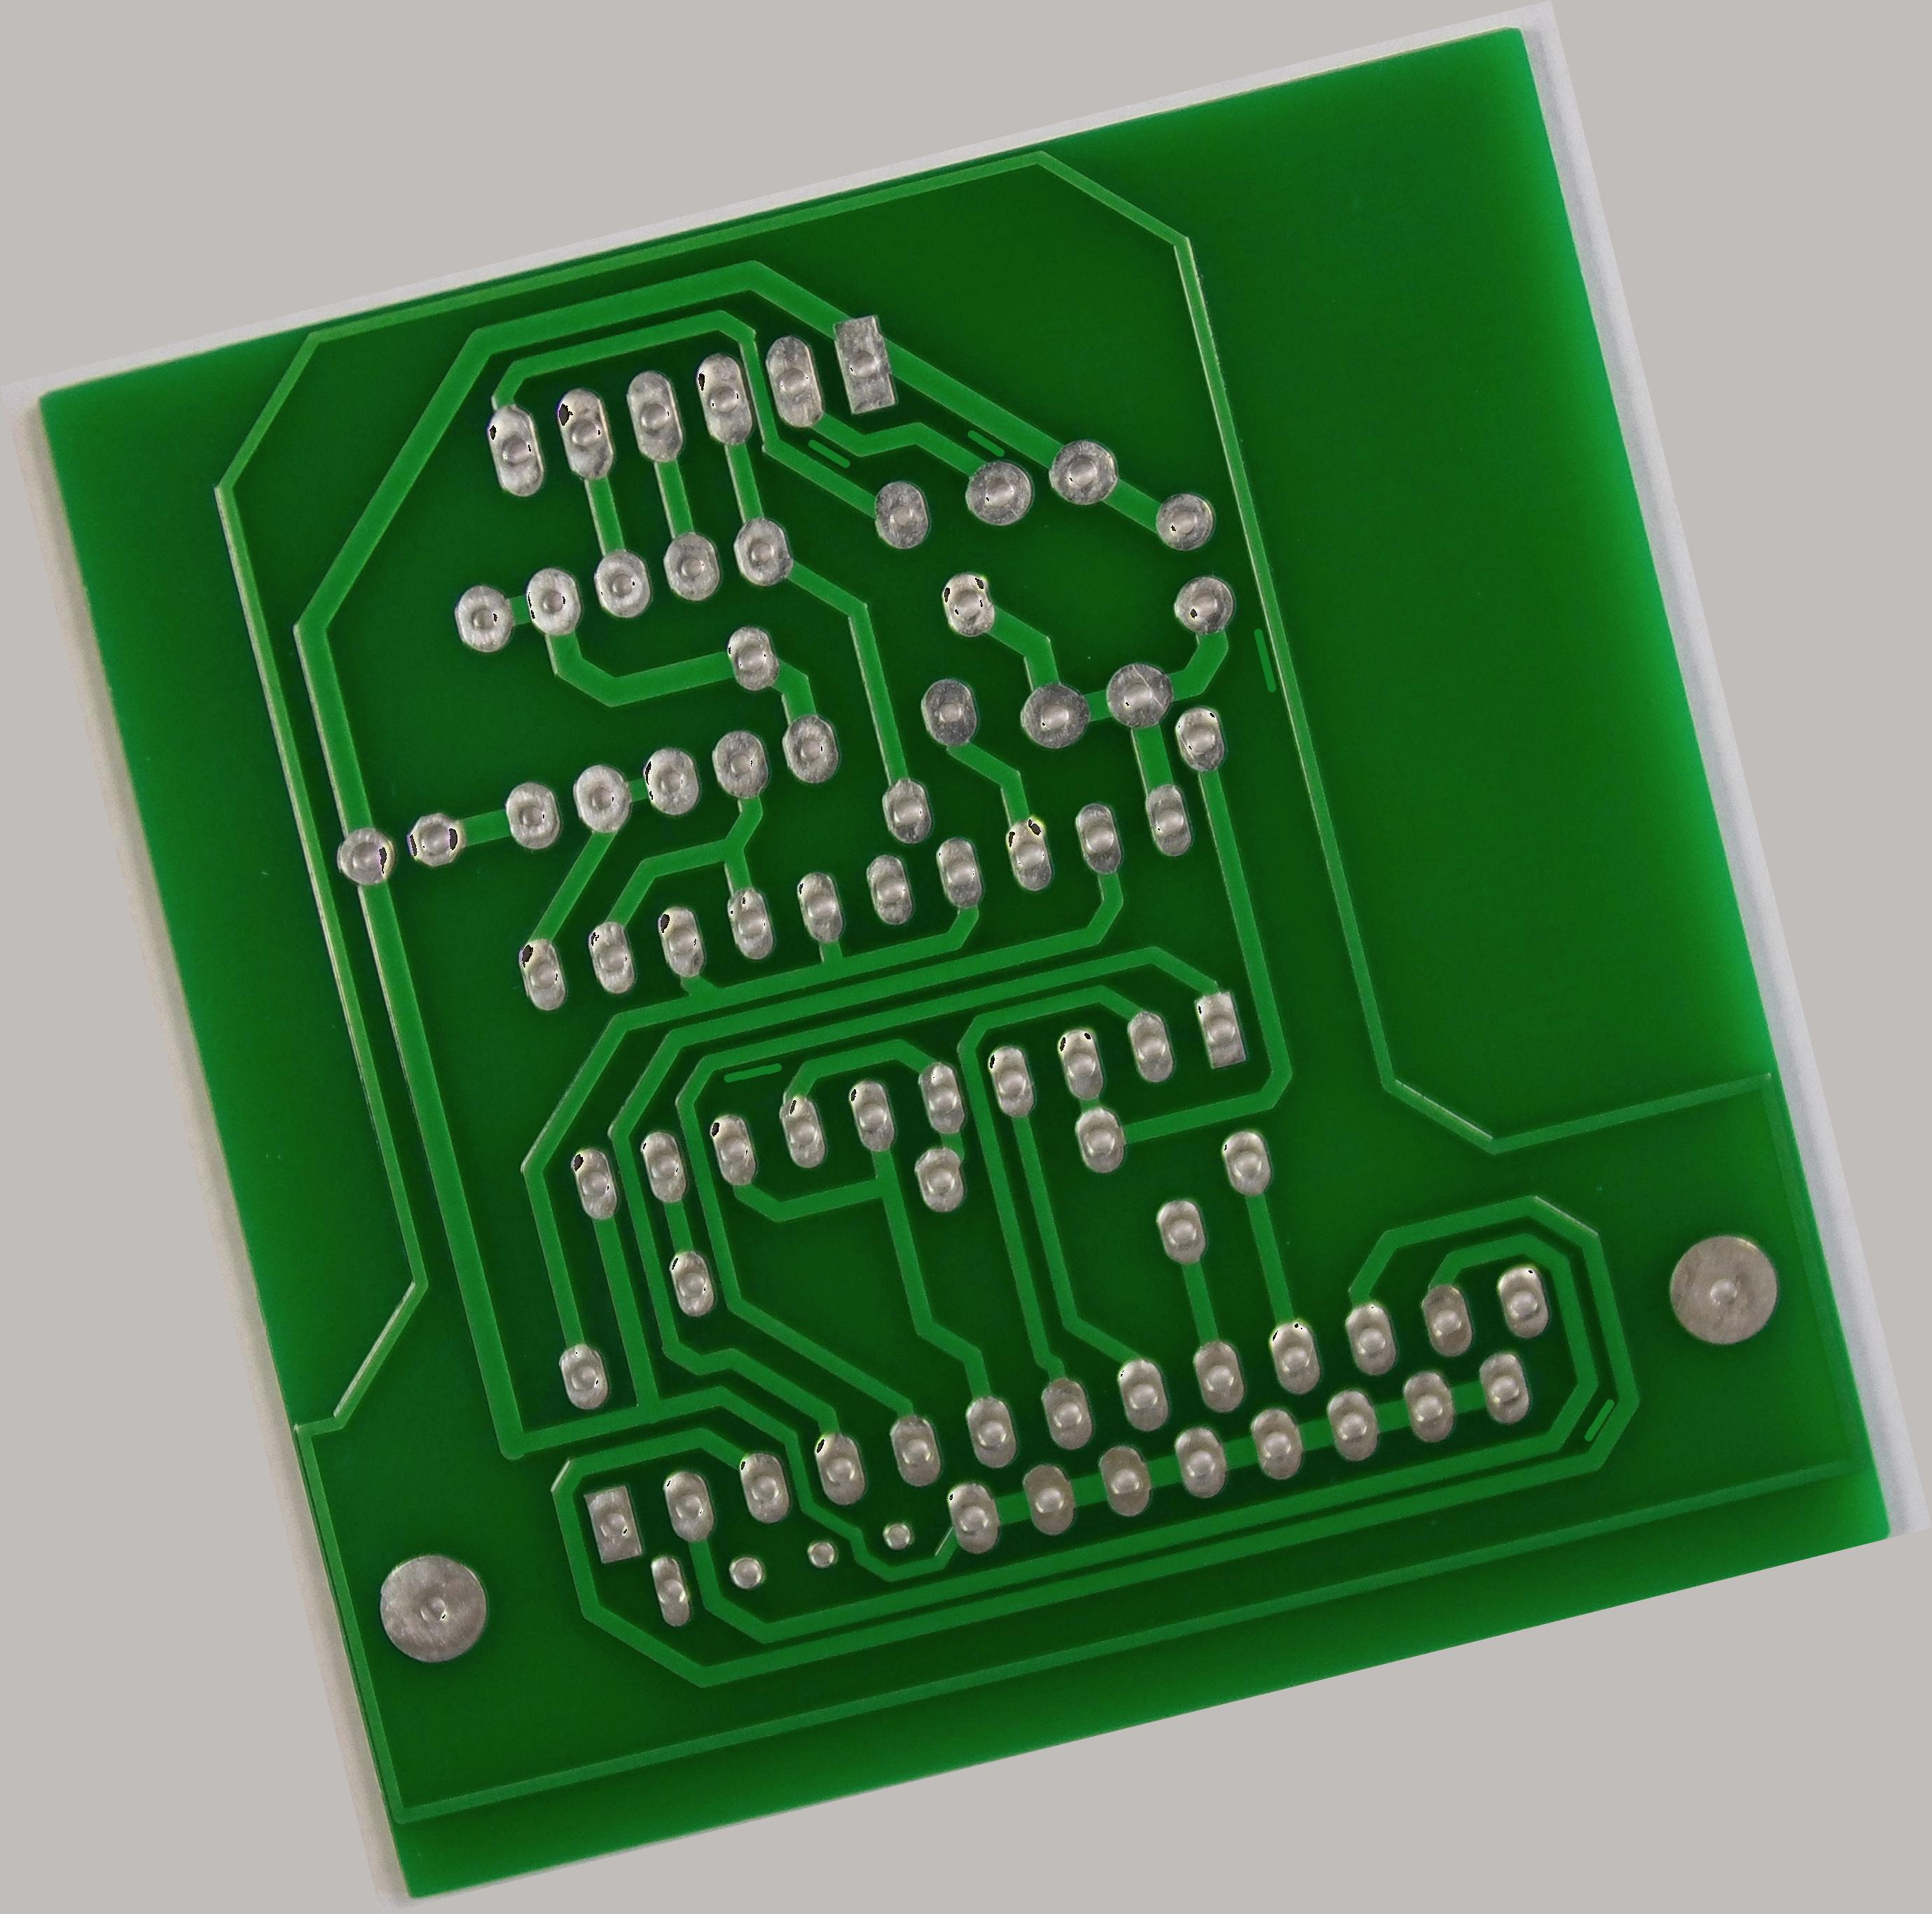spurious_copper: (1555, 1383, 1637, 1453), (1238, 615, 1292, 701), (712, 1045, 796, 1099), (955, 408, 1012, 471), (798, 422, 856, 482)
